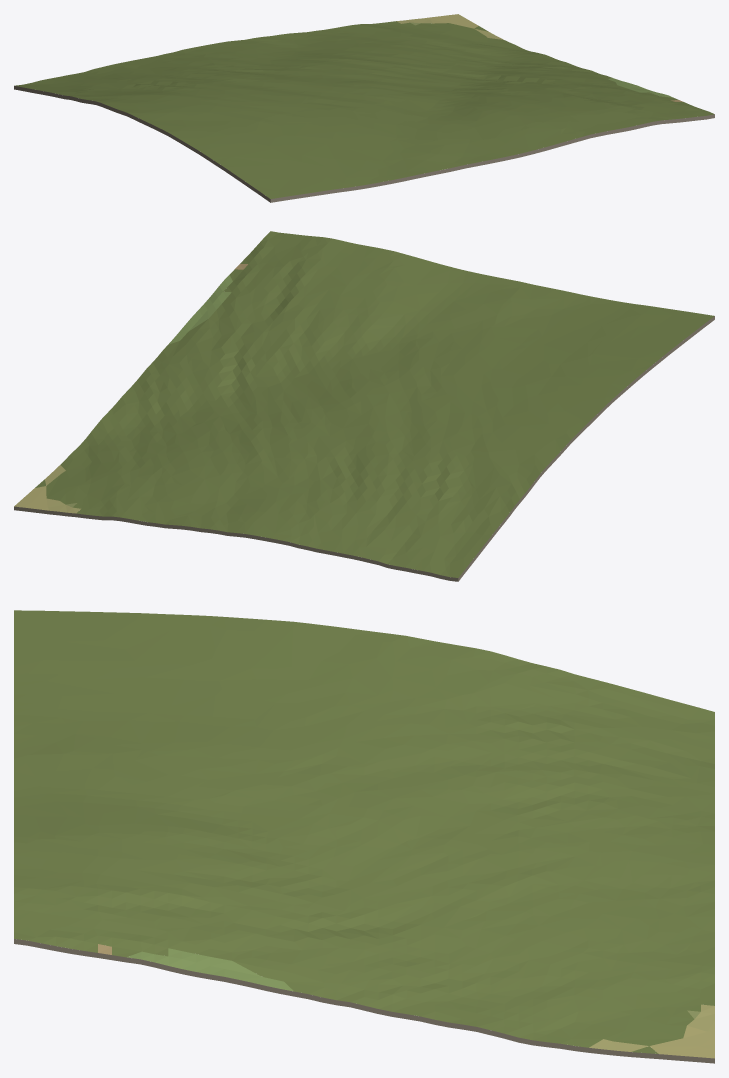
File: parca_+8_+0-uzak.glb
3 renders of one model, top to bottom at view 1: azimuth 30°, elevation 25°; view 2: azimuth 150°, elevation 25°; view 3: azimuth 270°, elevation 25°, orthographic. The views are drawn at different scales.
Parts seen in each view (by area): view 1: parca_+8_+0_arazi_uzak; view 2: parca_+8_+0_arazi_uzak; view 3: parca_+8_+0_arazi_uzak.
Boxes of the visible parts, x1,y1,x2,y2 form: parca_+8_+0_arazi_uzak: (14,14,714,202); parca_+8_+0_arazi_uzak: (14,231,714,581); parca_+8_+0_arazi_uzak: (14,610,714,1063).
Size of the model in its own units: 1000 by 247 by 1000.
